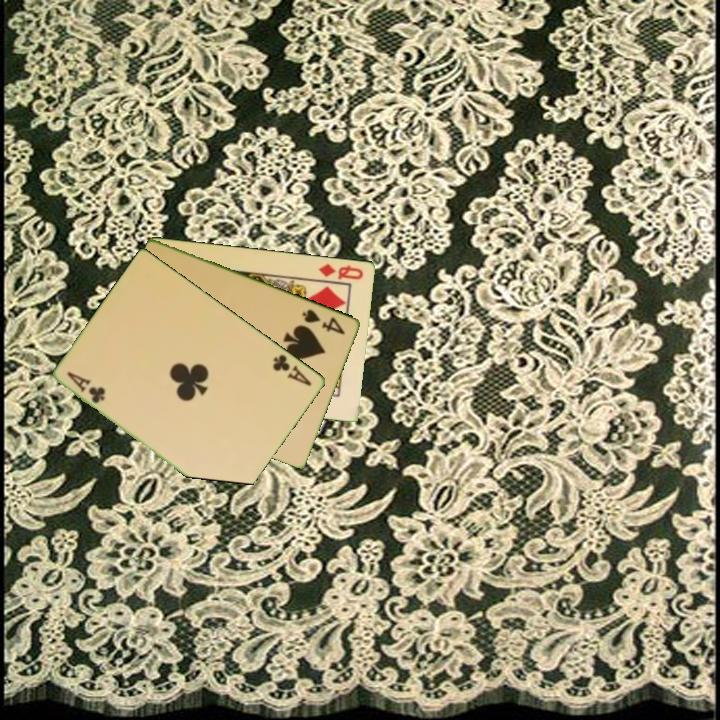4s: (299, 305, 348, 337)
Ac: (269, 351, 315, 389), (64, 368, 109, 406)
Qd: (315, 260, 366, 282)
